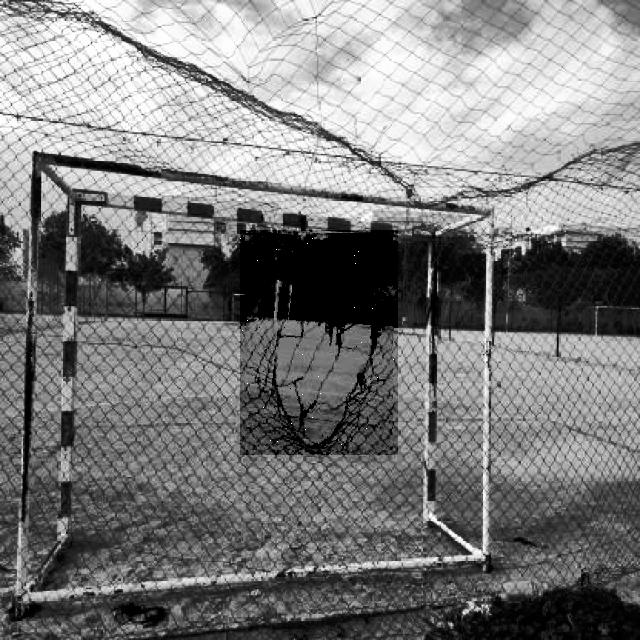anomaly-fence: (240, 230, 398, 455)
